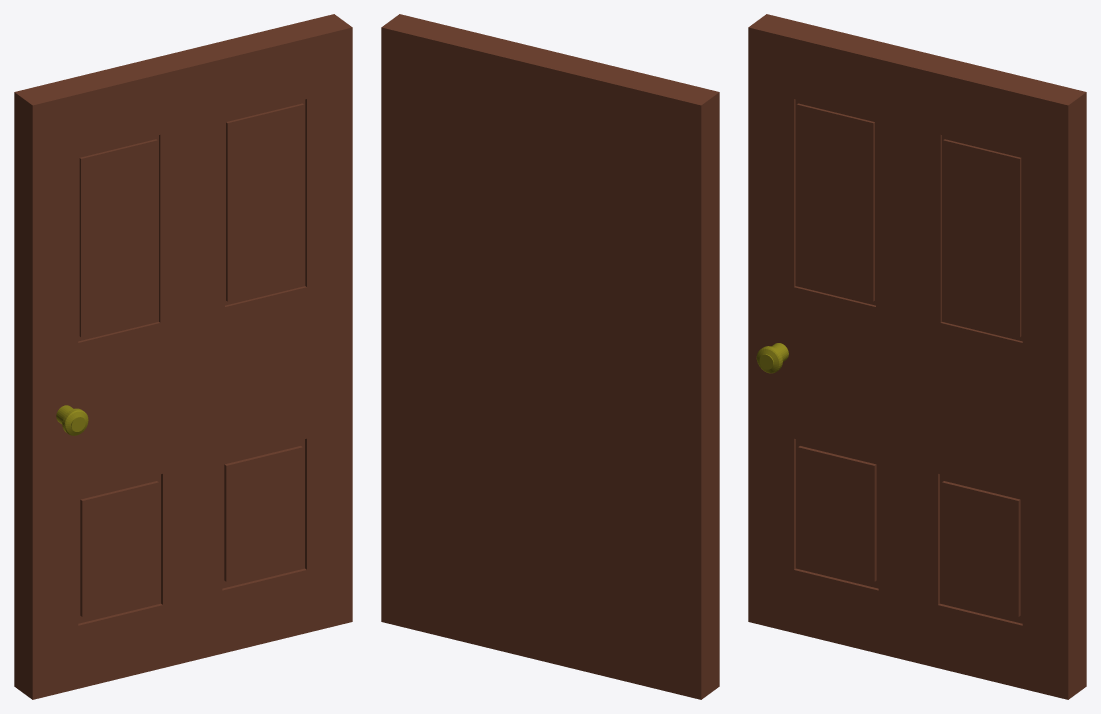
Rendered from door.glb.
3 views of the same model, side by side, from view 1: azimuth 30°, elevation 25°; view 2: azimuth 150°, elevation 25°; view 3: azimuth 330°, elevation 25° (orthographic).
Visible parts, largest first — view 1: Cube, Cylinder; view 2: Cube; view 3: Cube, Cylinder.
Boxes of the visible parts, x1,y1,x2,y2 form: Cube: (14, 14, 352, 699); Cylinder: (56, 405, 88, 435); Cube: (381, 14, 719, 699); Cube: (748, 14, 1086, 699); Cylinder: (756, 343, 788, 373).
Bounding box in the file's own units: 1.41 × 2.5 × 0.2463.
